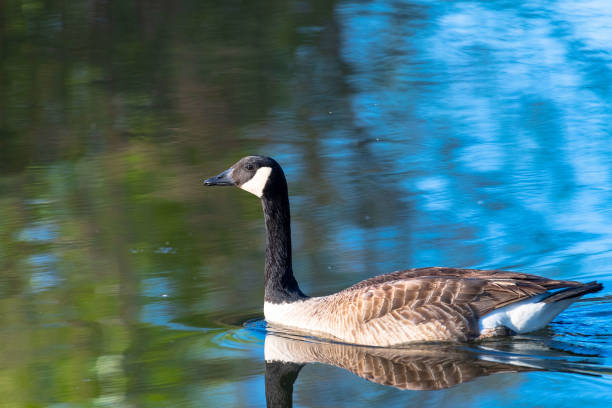goose: (200, 152, 607, 353)
